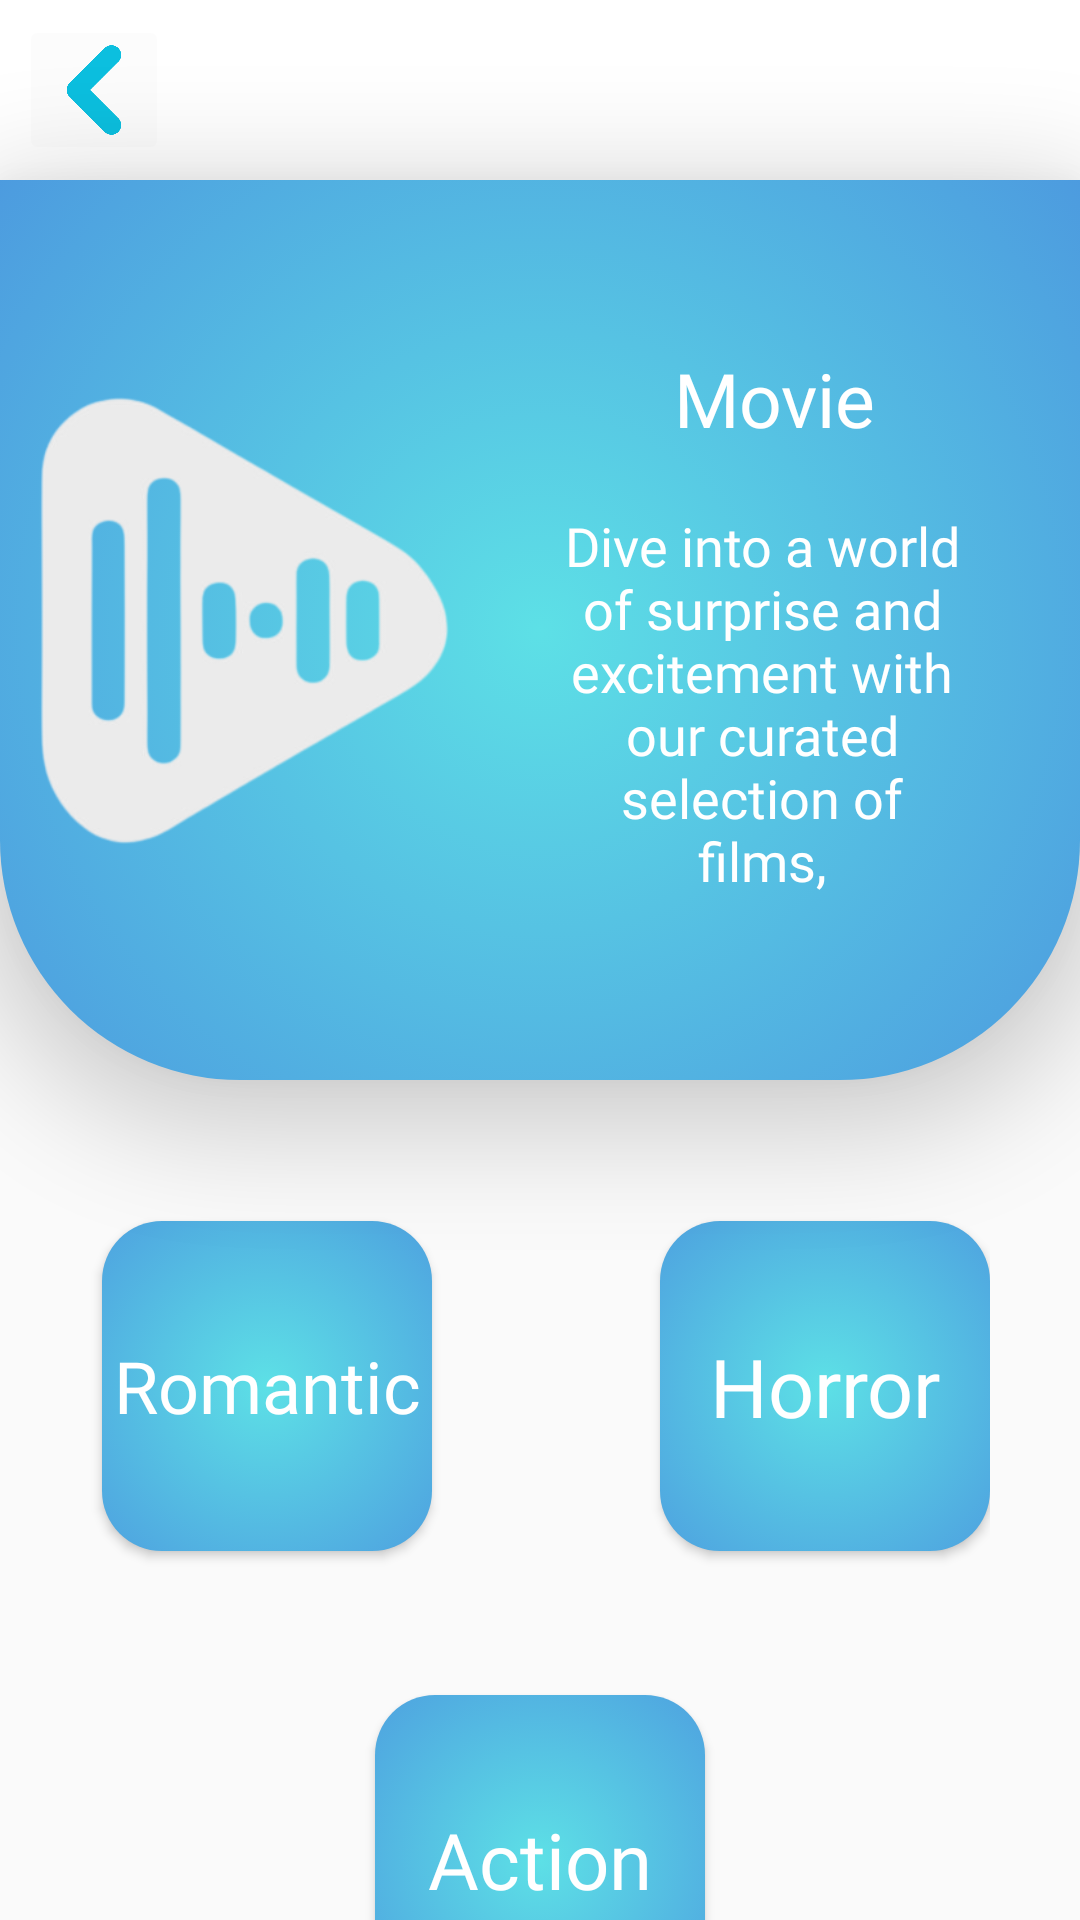

Point at icon controls on the screen. Image size 1080 × 1920, points as (x,y).
back: (94,90)
